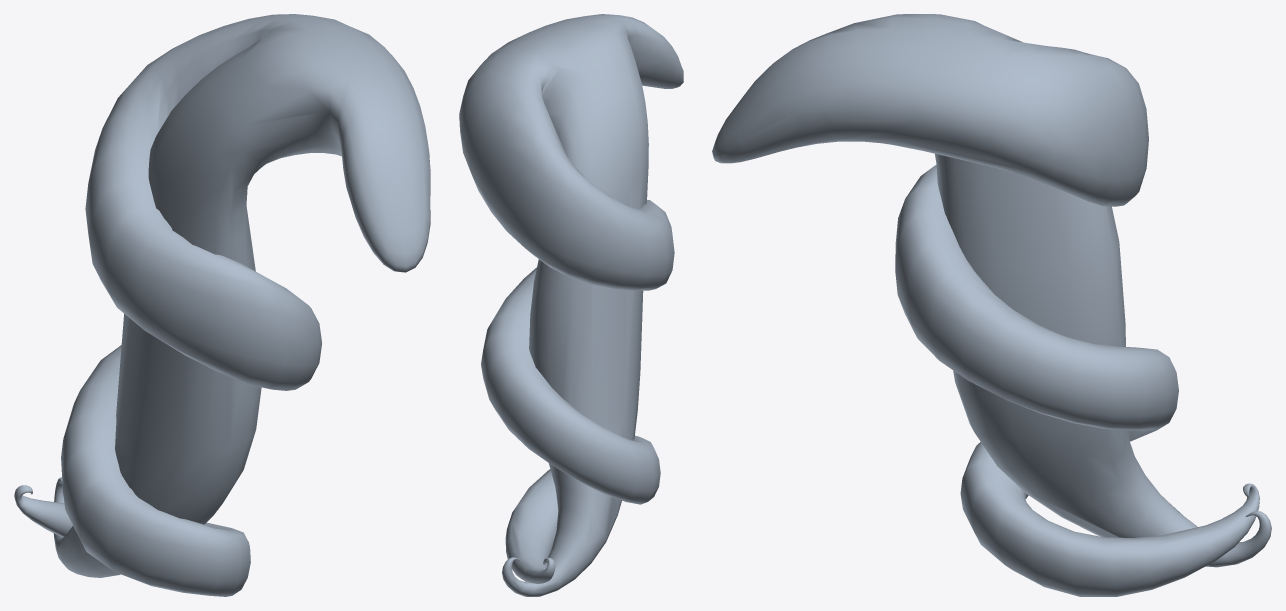
Rendered from Tail_10.fbx.
The picture shows the model from 3 angles, left to right: view 1: azimuth 30°, elevation 25°; view 2: azimuth 150°, elevation 25°; view 3: azimuth 270°, elevation 25°; orthographic projection. The views are drawn at different scales.
Visible parts, largest first — view 1: Tail_10; view 2: Tail_10; view 3: Tail_10.
Boxes of the visible parts, x1,y1,x2,y2 form: Tail_10: [14, 14, 430, 596]; Tail_10: [459, 14, 683, 596]; Tail_10: [712, 14, 1271, 596].
Bounding box in the file's own units: 78.95 × 169 × 146.
